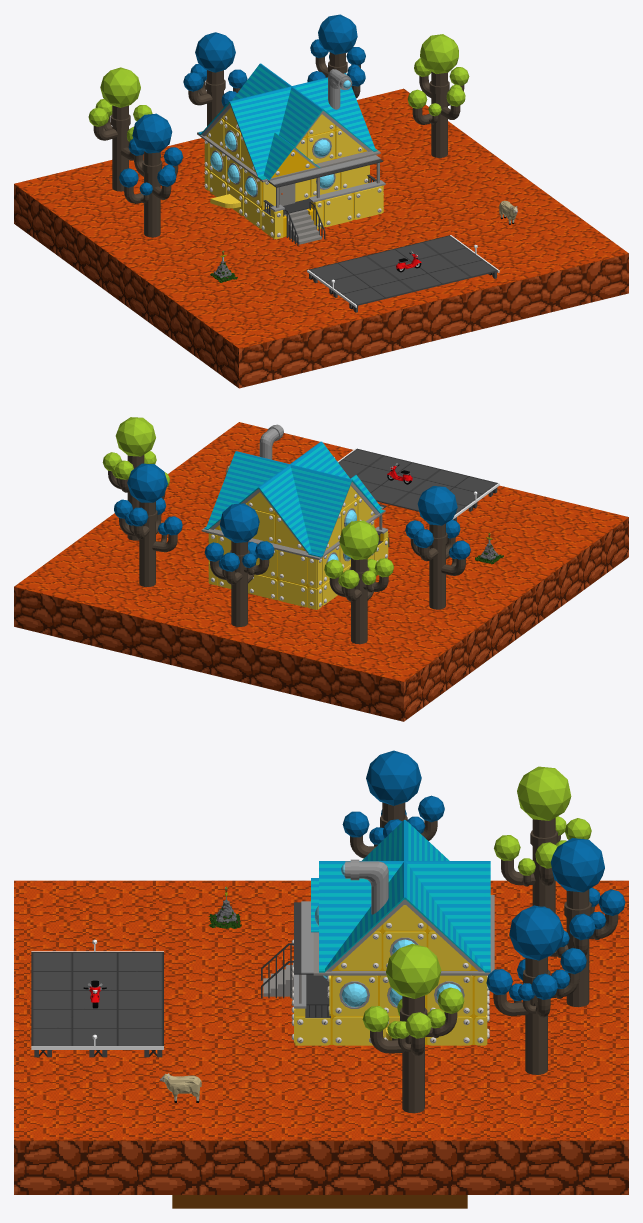
The picture shows the model from 3 angles, top to bottom: view 1: azimuth 30°, elevation 25°; view 2: azimuth 150°, elevation 25°; view 3: azimuth 270°, elevation 25°; orthographic projection. The views are drawn at different scales.
Visible parts, largest first — view 1: Cube.001, Cube.1366; view 2: Cube.001, Cube.1366; view 3: Cube.001, Cube.1366, UNDERGROUND_ART_PIECE_VAN_GOGH, ANIMAL_OVEJA, OBJRANDOM_SWORD_IN_THE_STONE.
Part boxes in pixels (left/top/right/bottom): Cube.001: left=14, top=14, right=628, bottom=388; Cube.1366: left=197, top=63, right=385, bottom=245; Cube.001: left=14, top=417, right=628, bottom=721; Cube.1366: left=201, top=424, right=389, bottom=609; Cube.001: left=14, top=750, right=628, bottom=1194; Cube.1366: left=261, top=820, right=494, bottom=1045; UNDERGROUND_ART_PIECE_VAN_GOGH: left=172, top=1195, right=467, bottom=1208; ANIMAL_OVEJA: left=160, top=1073, right=201, bottom=1102; OBJRANDOM_SWORD_IN_THE_STONE: left=208, top=886, right=241, bottom=928.
Bounding box in the file's own units: 4000 × 1836 × 4000.
39 materials, 5 textured.
